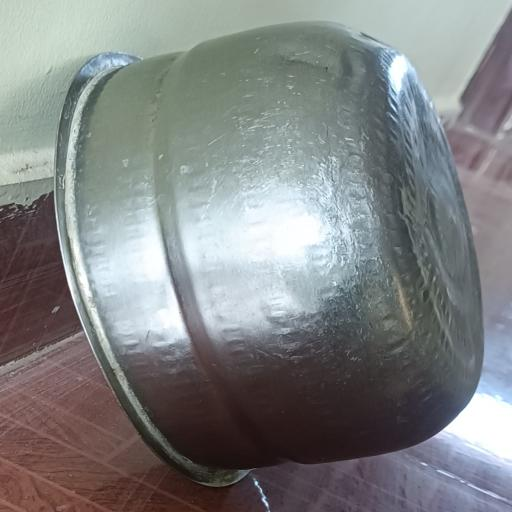vessel: (56, 23, 483, 485)
